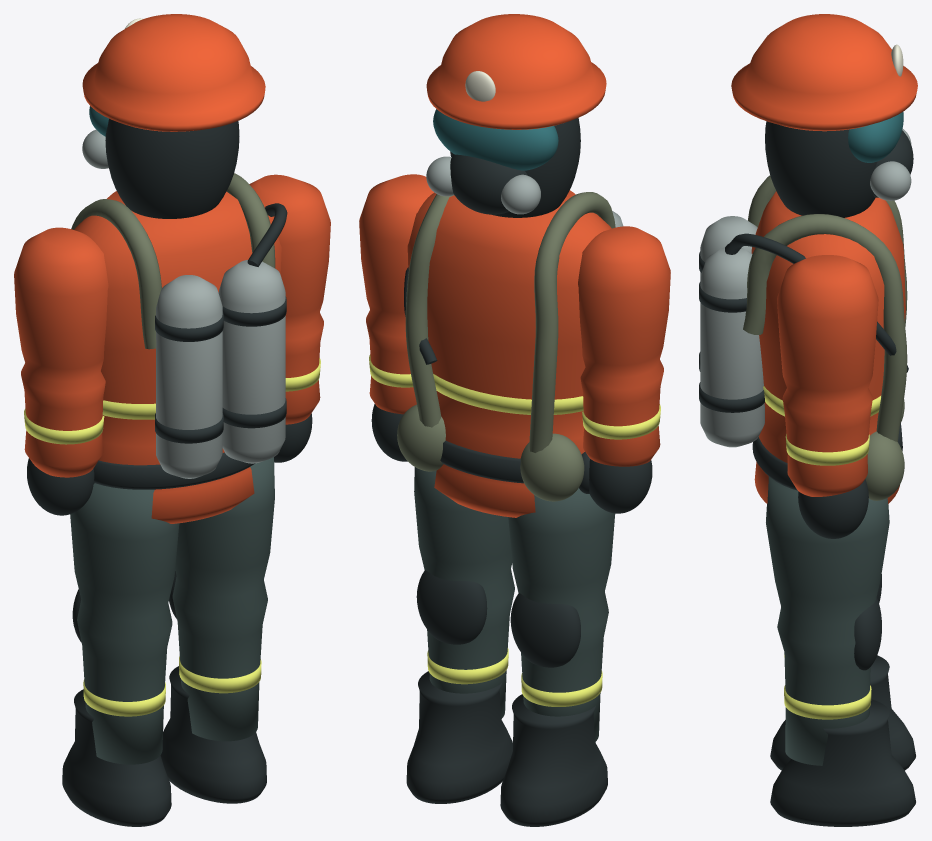
Rendered from peat_responder.glb.
The picture shows the model from 3 angles, left to right: view 1: azimuth 30°, elevation 25°; view 2: azimuth 150°, elevation 25°; view 3: azimuth 270°, elevation 25°; orthographic projection.
Visible parts, largest first — view 1: TorsoShell, LeftLegShell, RightLegShell, LeftArmShell, RightArmShell; view 2: TorsoShell, LeftLegShell, RightLegShell, LeftArmShell, RightArmShell; view 3: TorsoShell, RightLegShell, RightArmShell, LeftLegShell.
Part boxes in pixels (left/top/right/bottom): TorsoShell: left=71, top=14, right=287, bottom=523; LeftLegShell: left=62, top=483, right=179, bottom=826; RightLegShell: left=160, top=457, right=274, bottom=803; LeftArmShell: left=14, top=227, right=108, bottom=515; RightArmShell: left=249, top=174, right=330, bottom=462; TorsoShell: left=397, top=14, right=623, bottom=517; LeftLegShell: left=500, top=488, right=615, bottom=826; RightLegShell: left=406, top=467, right=514, bottom=803; LeftArmShell: left=578, top=226, right=670, bottom=513; RightArmShell: left=359, top=174, right=433, bottom=461; TorsoShell: left=699, top=14, right=917, bottom=503; RightLegShell: left=766, top=476, right=915, bottom=826; RightArmShell: left=777, top=255, right=878, bottom=538; LeftLegShell: left=770, top=574, right=915, bottom=770.
Size of the model in its own units: 0.78 by 1.89 by 0.495.
